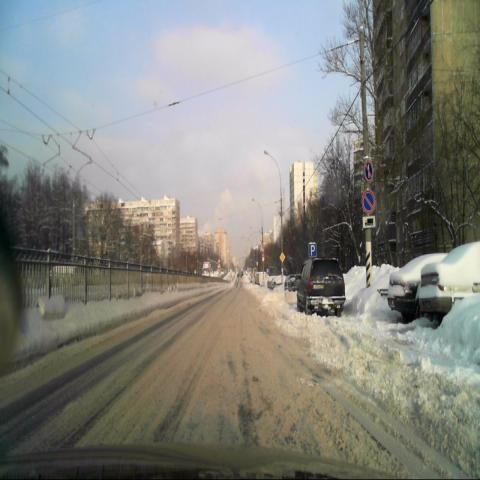3_28: (361, 189, 375, 214)
3_29: (363, 158, 373, 184)
6_4: (308, 242, 317, 257)
